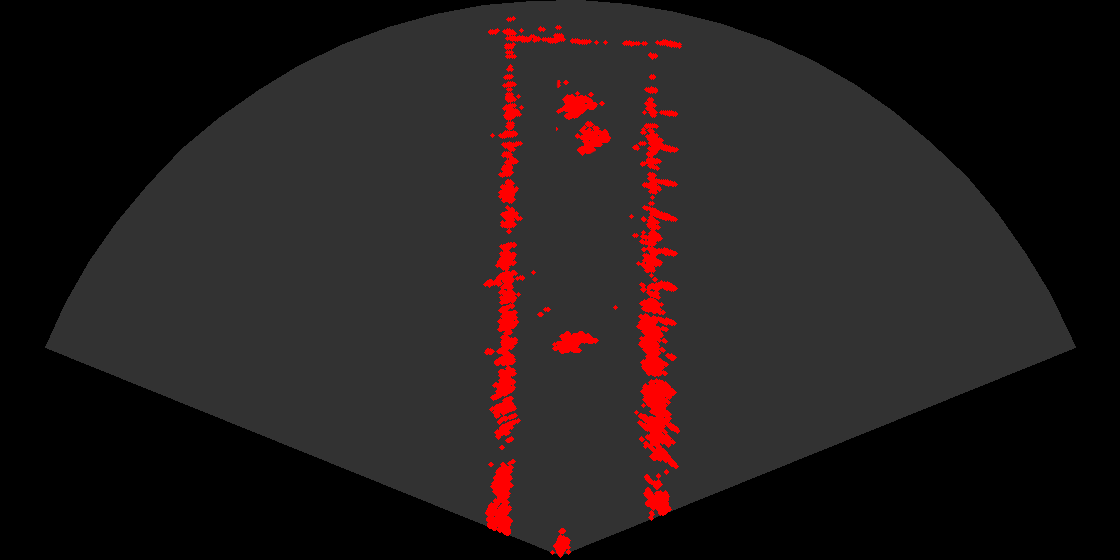AUV: (546, 329, 602, 361)
cage: (556, 80, 619, 164)
